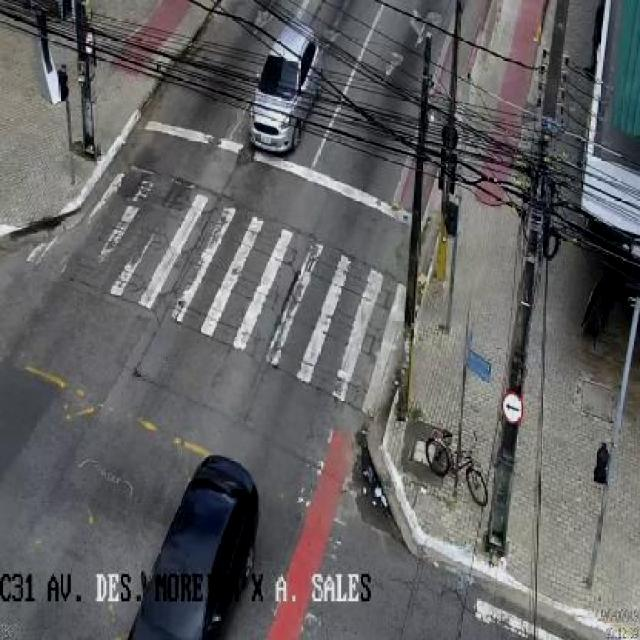Car: (132, 444, 282, 640), (234, 24, 332, 154)
Cycle: (399, 411, 505, 512)
